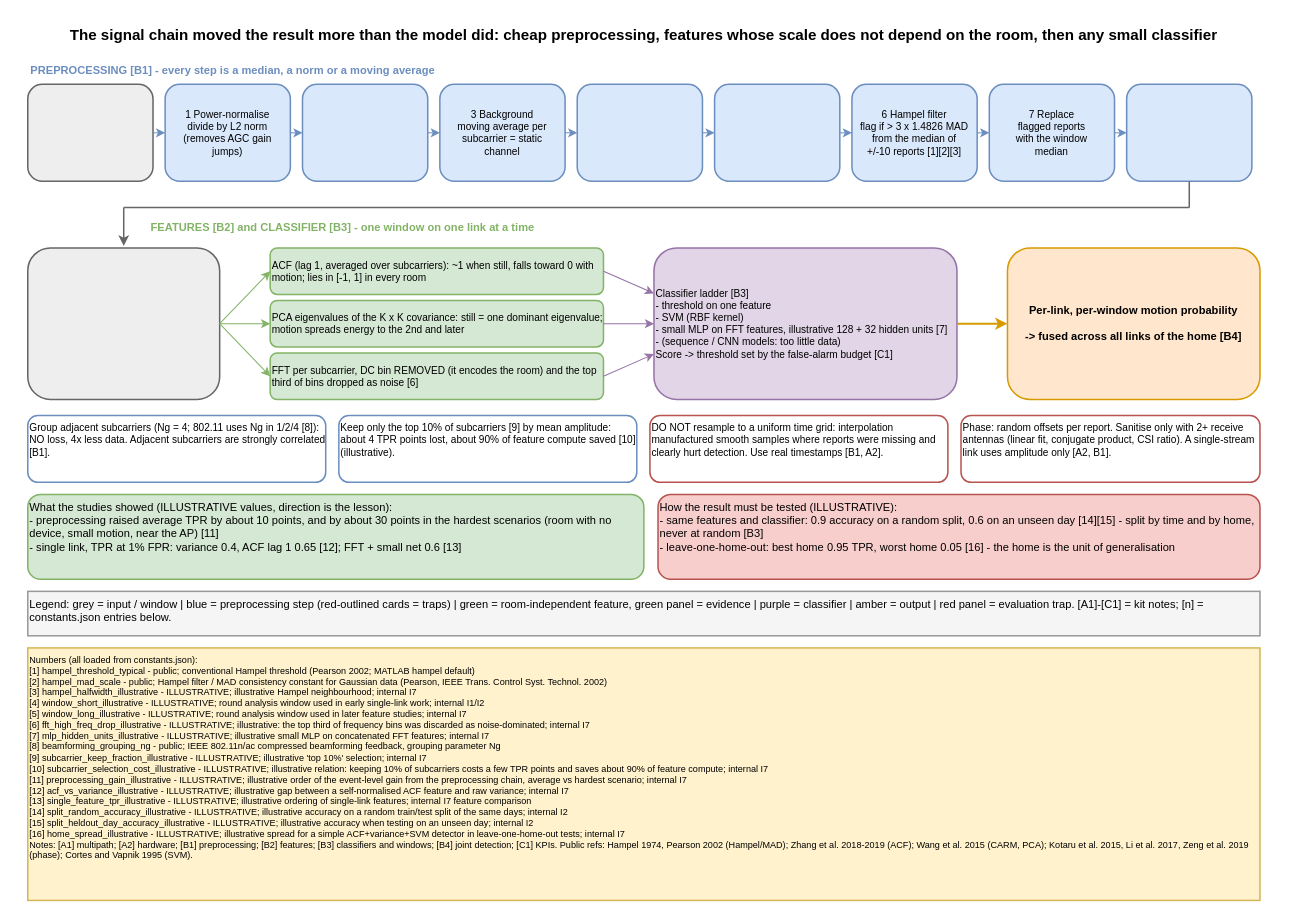
Some shapes in this 1289 by 919 pixel diagram are drawn without their labels. Each missing label, with the box of its shape:
2 Drop bad subcarriers guard-adjacent, very low amplitude: (301, 83, 428, 182)
4 Dynamics amplitude minus background = the motion part [A1]: (576, 83, 703, 182)
5 Energy series L2 norm of the dynamics: one number per report: (713, 83, 840, 182)
8 Smooth (optional) exponential moving average: (1125, 83, 1252, 182)
Raw CSI report one frame: |H| per subcarrier, with a real timestamp [A2]: (27, 83, 153, 182)
Window K subcarriers x L reports on one link illustrative 1 s or 4 s [4][5]: (27, 247, 220, 400)
